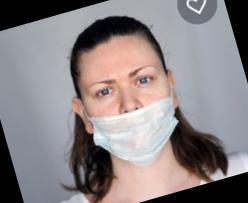mask_weared_incorrect: (82, 54, 189, 169)
